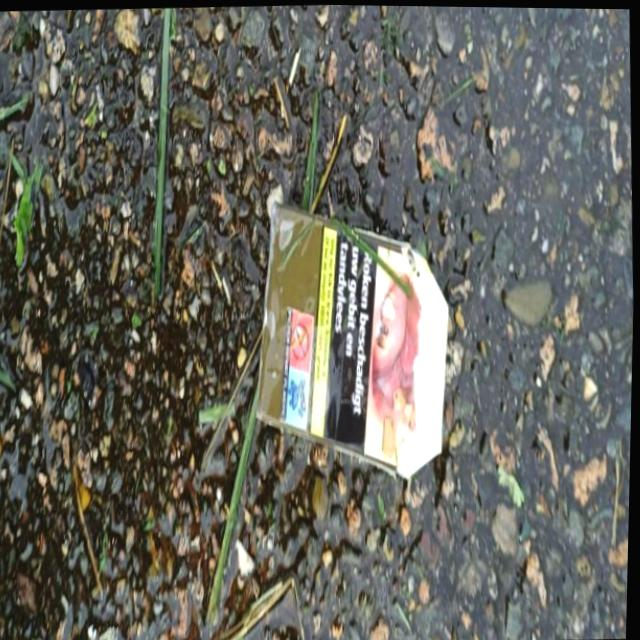Paper: (247, 186, 460, 488)
